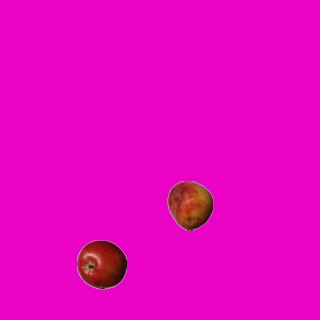Apple Braeburn: (76, 239, 126, 289)
Peach: (165, 180, 215, 230)
